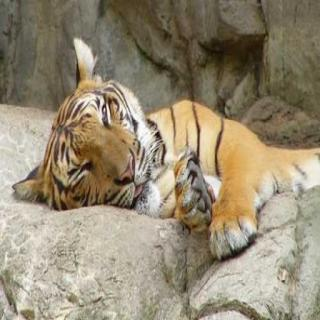Tiger: (18, 26, 320, 258)
